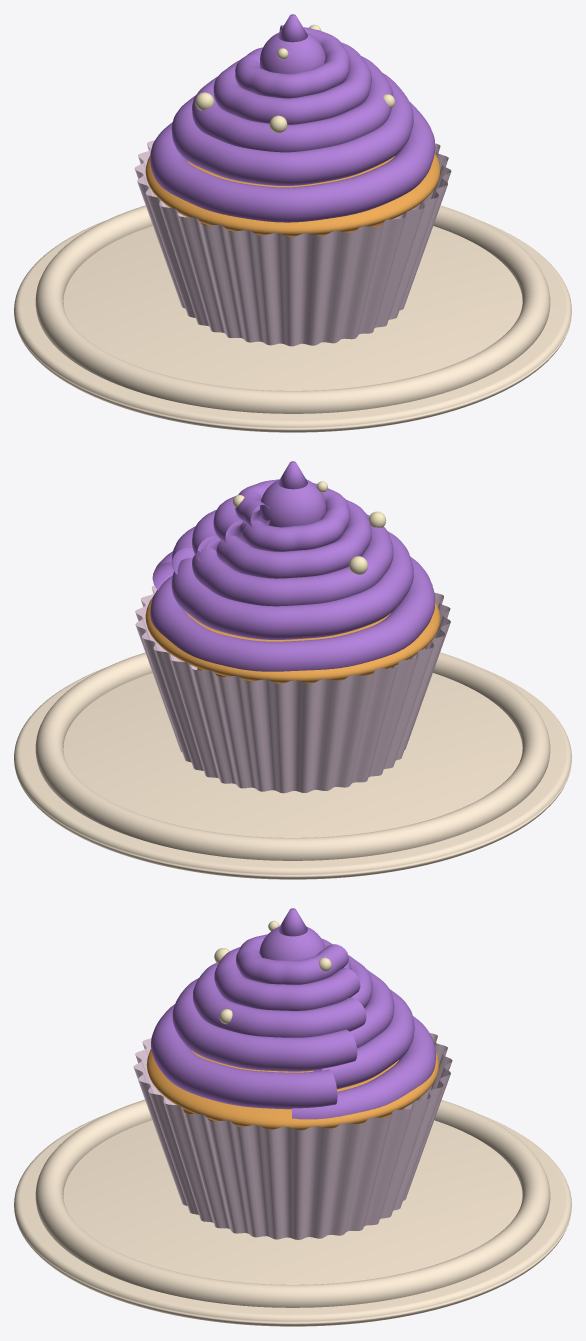
The model's file is cupcake2.glb.
3 renders of one model, top to bottom at view 1: azimuth 30°, elevation 25°; view 2: azimuth 150°, elevation 25°; view 3: azimuth 270°, elevation 25°, orthographic.
Visible parts, largest first — view 1: PLATE_Inner_Surface, WRAPPER_Vanilla_Paper, PLATE_Raised_Rim, PLATE_Ceramic, FROSTING_01_Bottom, FROSTING_02_Lower_Middle, FROSTING_03_Middle, VANILLA_CUPCAKE_Golden_Top, FROSTING_04_Upper, FROSTING_05_Top, FROSTING_06_Peak, FROSTING_07_Soft_Tip; view 2: PLATE_Inner_Surface, WRAPPER_Vanilla_Paper, PLATE_Raised_Rim, PLATE_Ceramic, FROSTING_01_Bottom, FROSTING_02_Lower_Middle, FROSTING_03_Middle, FROSTING_04_Upper, VANILLA_CUPCAKE_Golden_Top, FROSTING_05_Top, FROSTING_06_Peak, FROSTING_07_Soft_Tip; view 3: PLATE_Inner_Surface, WRAPPER_Vanilla_Paper, PLATE_Raised_Rim, PLATE_Ceramic, FROSTING_01_Bottom, FROSTING_02_Lower_Middle, FROSTING_03_Middle, FROSTING_04_Upper, VANILLA_CUPCAKE_Golden_Top, FROSTING_05_Top, FROSTING_06_Peak, FROSTING_07_Soft_Tip.
Part boxes in pixels (x1,y1,x2,y2): PLATE_Inner_Surface: (63,226,522,390); WRAPPER_Vanilla_Paper: (134,140,451,346); PLATE_Raised_Rim: (35,205,550,413); PLATE_Ceramic: (14,221,571,432); FROSTING_01_Bottom: (150,101,435,222); FROSTING_02_Lower_Middle: (171,73,413,185); FROSTING_03_Middle: (192,56,393,152); VANILLA_CUPCAKE_Golden_Top: (145,153,440,236); FROSTING_04_Upper: (213,42,371,124); FROSTING_05_Top: (235,25,350,98); FROSTING_06_Peak: (260,32,325,73); FROSTING_07_Soft_Tip: (278,14,307,42); PLATE_Inner_Surface: (63,673,522,837); WRAPPER_Vanilla_Paper: (135,584,450,793); PLATE_Raised_Rim: (35,652,550,860); PLATE_Ceramic: (14,668,571,879); FROSTING_01_Bottom: (150,544,435,671); FROSTING_02_Lower_Middle: (171,526,413,639); FROSTING_03_Middle: (192,509,393,606); FROSTING_04_Upper: (213,495,371,578); VANILLA_CUPCAKE_Golden_Top: (145,596,440,683); FROSTING_05_Top: (235,479,350,551); FROSTING_06_Peak: (260,479,325,527); FROSTING_07_Soft_Tip: (278,461,307,489); PLATE_Inner_Surface: (63,1120,522,1284); WRAPPER_Vanilla_Paper: (133,1033,452,1239); PLATE_Raised_Rim: (35,1099,550,1307); PLATE_Ceramic: (14,1115,571,1326); FROSTING_01_Bottom: (151,1004,435,1119); FROSTING_02_Lower_Middle: (172,978,414,1089); FROSTING_03_Middle: (192,962,394,1047); FROSTING_04_Upper: (214,947,372,1010); VANILLA_CUPCAKE_Golden_Top: (146,1049,439,1130); FROSTING_05_Top: (236,934,351,984); FROSTING_06_Peak: (259,926,325,960); FROSTING_07_Soft_Tip: (278,908,307,936).
Bounding box in the file's own units: 4.4 × 2.62 × 4.4.
